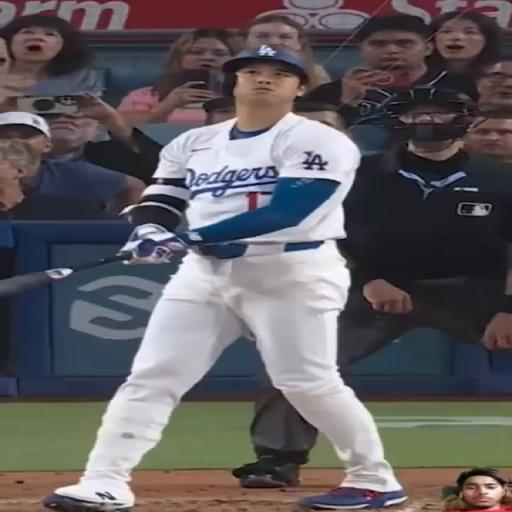bat: (0, 252, 132, 296)
